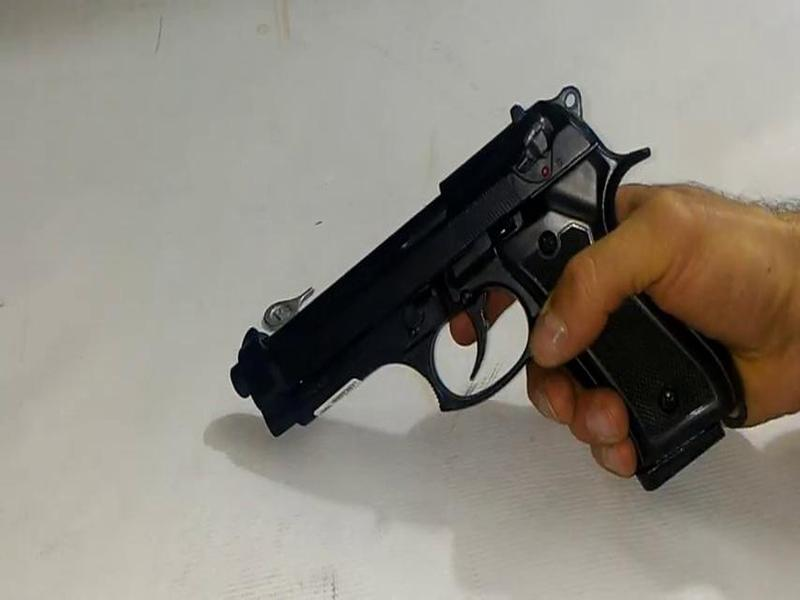Pistola: (188, 88, 769, 550)
